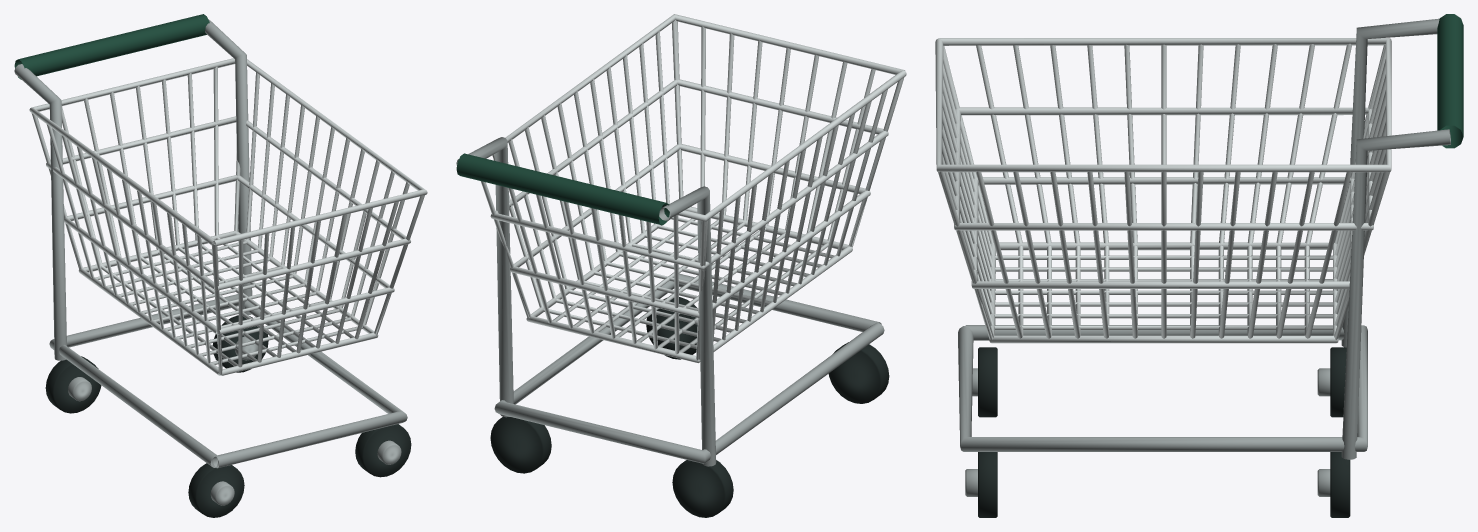
Rendered from SM_EG_ShoppingCart_09a101bdbd.fbx.
The picture shows the model from 3 angles, left to right: view 1: azimuth 30°, elevation 25°; view 2: azimuth 150°, elevation 25°; view 3: azimuth 270°, elevation 25°; orthographic projection. The views are drawn at different scales.
Parts seen in each view (by area): view 1: SM_EG_ShoppingCart_09a101bdbd; view 2: SM_EG_ShoppingCart_09a101bdbd; view 3: SM_EG_ShoppingCart_09a101bdbd.
Part boxes in pixels (<box>): SM_EG_ShoppingCart_09a101bdbd: <box>14,14,427,517</box>; SM_EG_ShoppingCart_09a101bdbd: <box>456,14,906,517</box>; SM_EG_ShoppingCart_09a101bdbd: <box>935,14,1463,517</box>.
Size of what is drawn, in the model's own units: 70 by 120 by 98.85.
